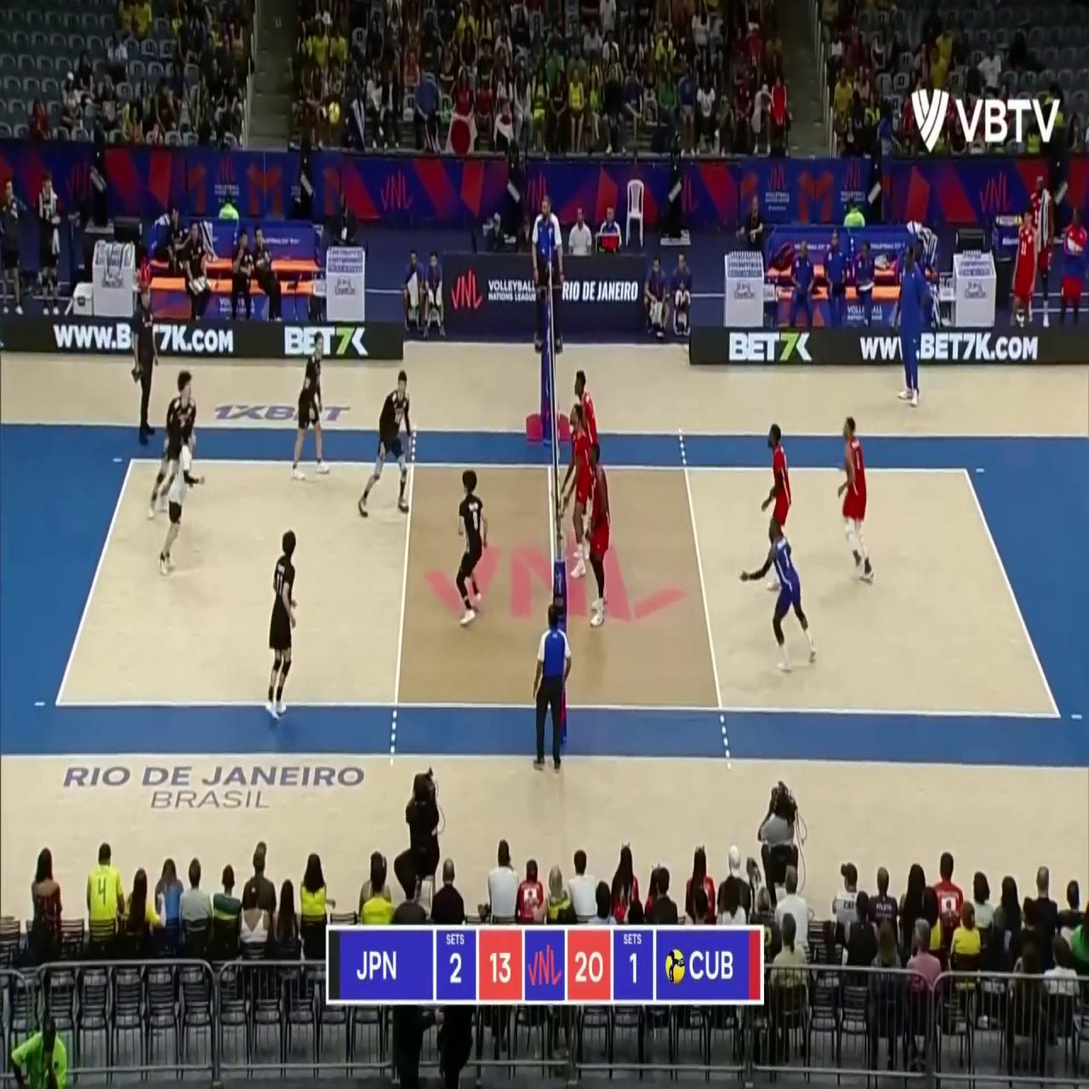ball: (329, 102, 341, 123)
